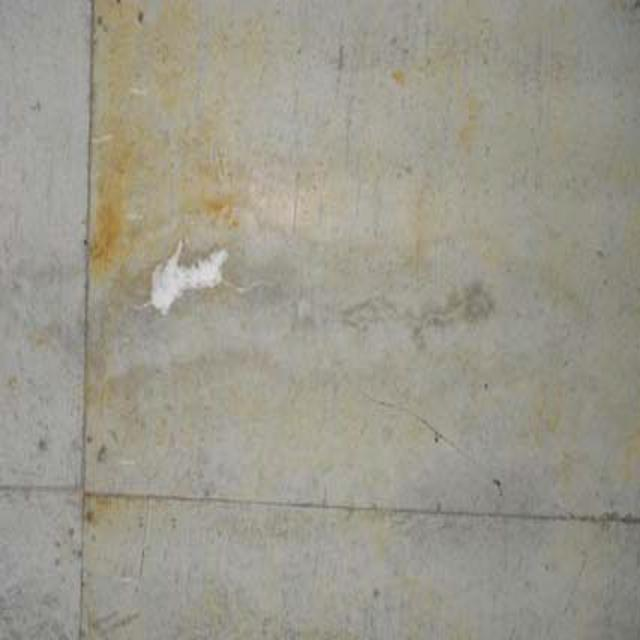freelime: (143, 224, 240, 313)
